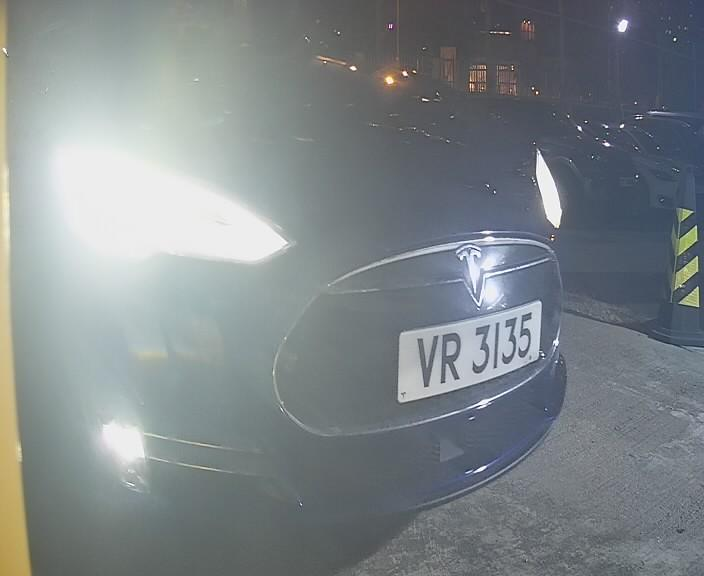License Plate: (387, 299, 551, 407)
